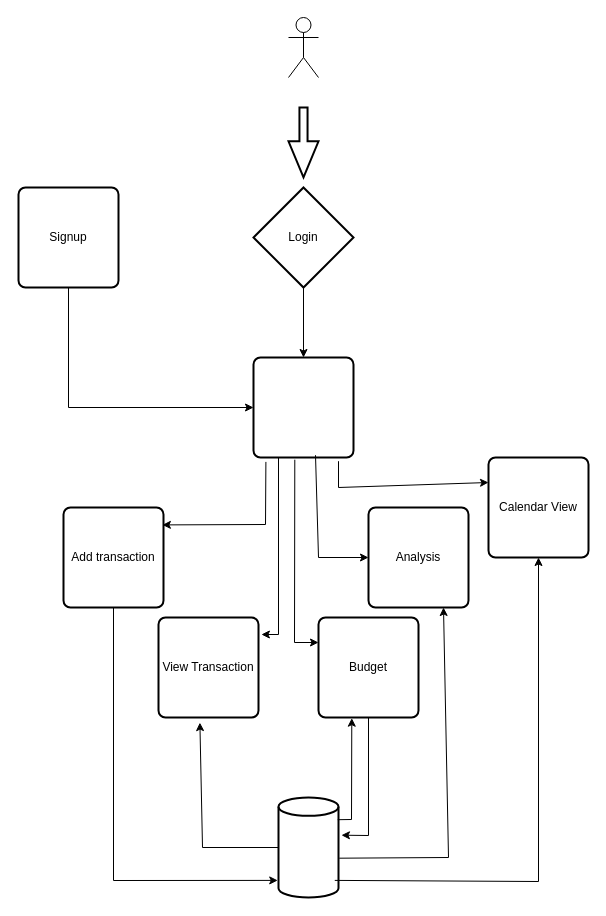
This 606x916 diagram has some shape labels left out. Here are the shapes that lost their labels. From the top down, the box of each, then its label:
(288, 16, 318, 78): USER
(252, 356, 354, 458): Main App
(277, 796, 339, 898): Database
